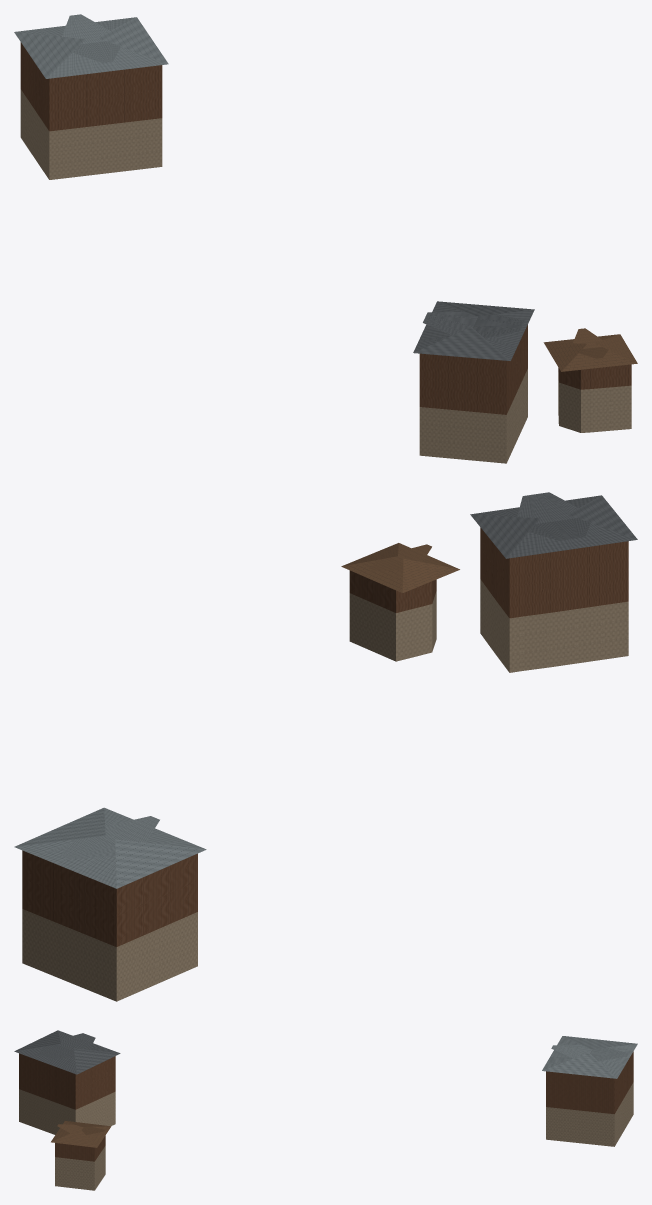
The model's file is bld_c0_10_491.gltf.
The picture shows the model from 3 angles, top to bottom: view 1: azimuth 30°, elevation 25°; view 2: azimuth 150°, elevation 25°; view 3: azimuth 270°, elevation 25°; orthographic projection. The views are drawn at different scales.
Parts seen in each view (by area): view 1: bld_c0_10_491; view 2: bld_c0_10_491; view 3: bld_c0_10_491.
Part boxes in pixels (<box>): bld_c0_10_491: <box>14,14,637,463</box>; bld_c0_10_491: <box>14,492,637,1001</box>; bld_c0_10_491: <box>14,1030,637,1190</box>.
Size of the model in its own units: 25.91 by 14.3 by 88.31.
Materials: 5 (5 with a texture image).
